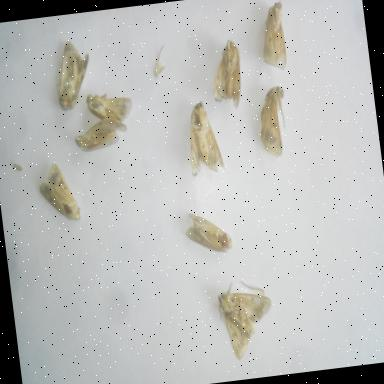abw: (46, 32, 99, 118), (178, 92, 228, 180), (32, 156, 86, 228), (251, 80, 298, 161), (204, 34, 250, 116), (80, 81, 142, 139), (68, 108, 130, 162), (180, 204, 236, 260), (253, 0, 294, 74)
